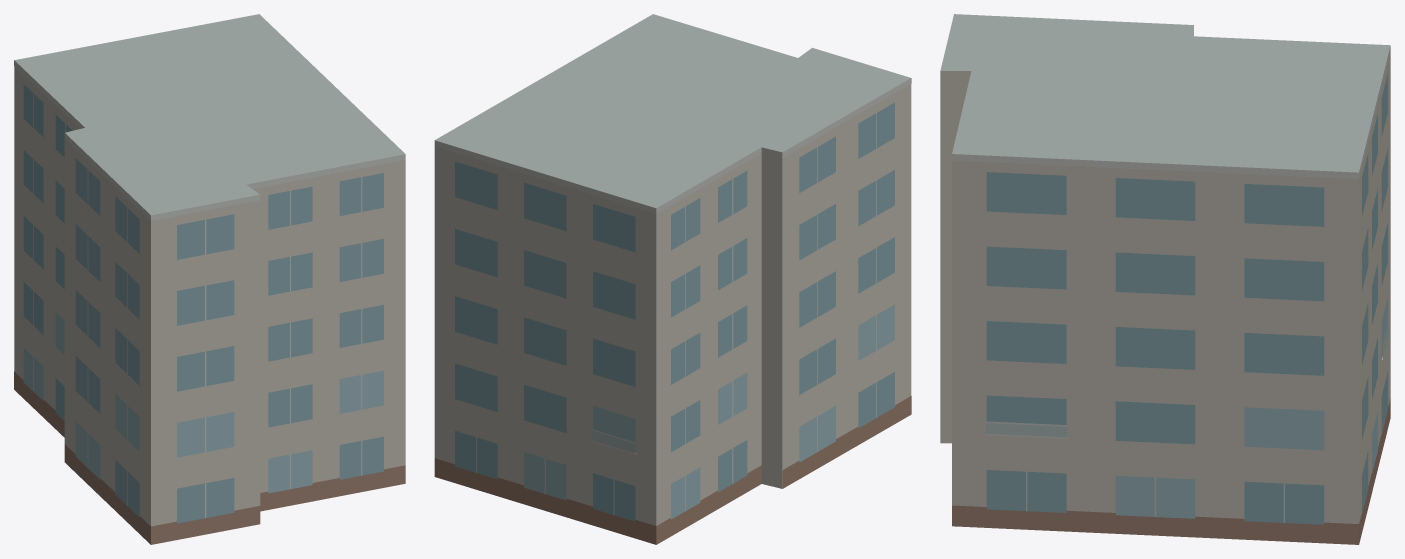
Rendered from survey-upis-32973598.glb.
3 views of the same model, side by side, from view 1: azimuth 30°, elevation 25°; view 2: azimuth 150°, elevation 25°; view 3: azimuth 270°, elevation 25° (orthographic). The views are drawn at different scales.
Parts seen in each view (by area): view 1: survey-upis-32973598.tmp; view 2: survey-upis-32973598.tmp; view 3: survey-upis-32973598.tmp.
Boxes of the visible parts, <box> form: survey-upis-32973598.tmp: <box>14,14,405,544</box>; survey-upis-32973598.tmp: <box>434,14,911,544</box>; survey-upis-32973598.tmp: <box>940,14,1390,544</box>.
Size of the model in its own units: 12.8 by 14 by 15.36.
